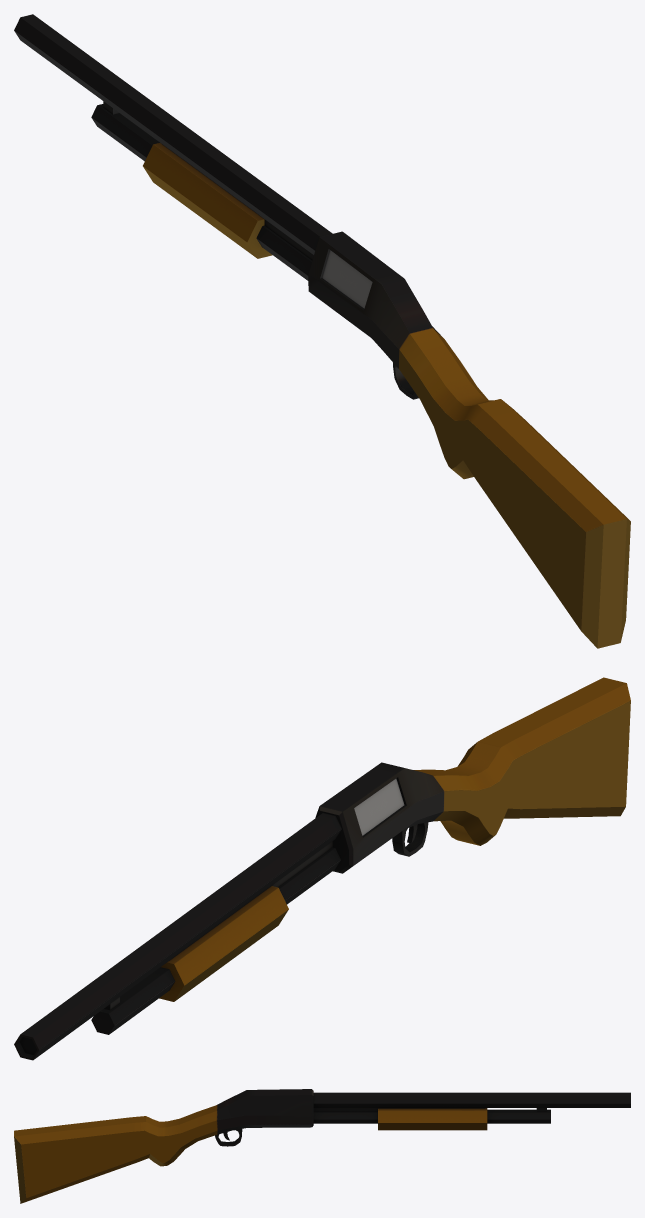
Rendered from escopeta.glb.
3 views of the same model, one above another, from view 1: azimuth 30°, elevation 25°; view 2: azimuth 150°, elevation 25°; view 3: azimuth 270°, elevation 25° (orthographic). The views are drawn at different scales.
Visible parts, largest first — view 1: Object_2; view 2: Object_2; view 3: Object_2.
Part boxes in pixels (x1,y1,x2,y2): Object_2: (14, 14, 630, 648); Object_2: (14, 677, 630, 1060); Object_2: (14, 1089, 630, 1203).
Bounding box in the file's own units: 0.3031 × 1.34 × 6.89.
Materials: 1 (1 with a texture image).
